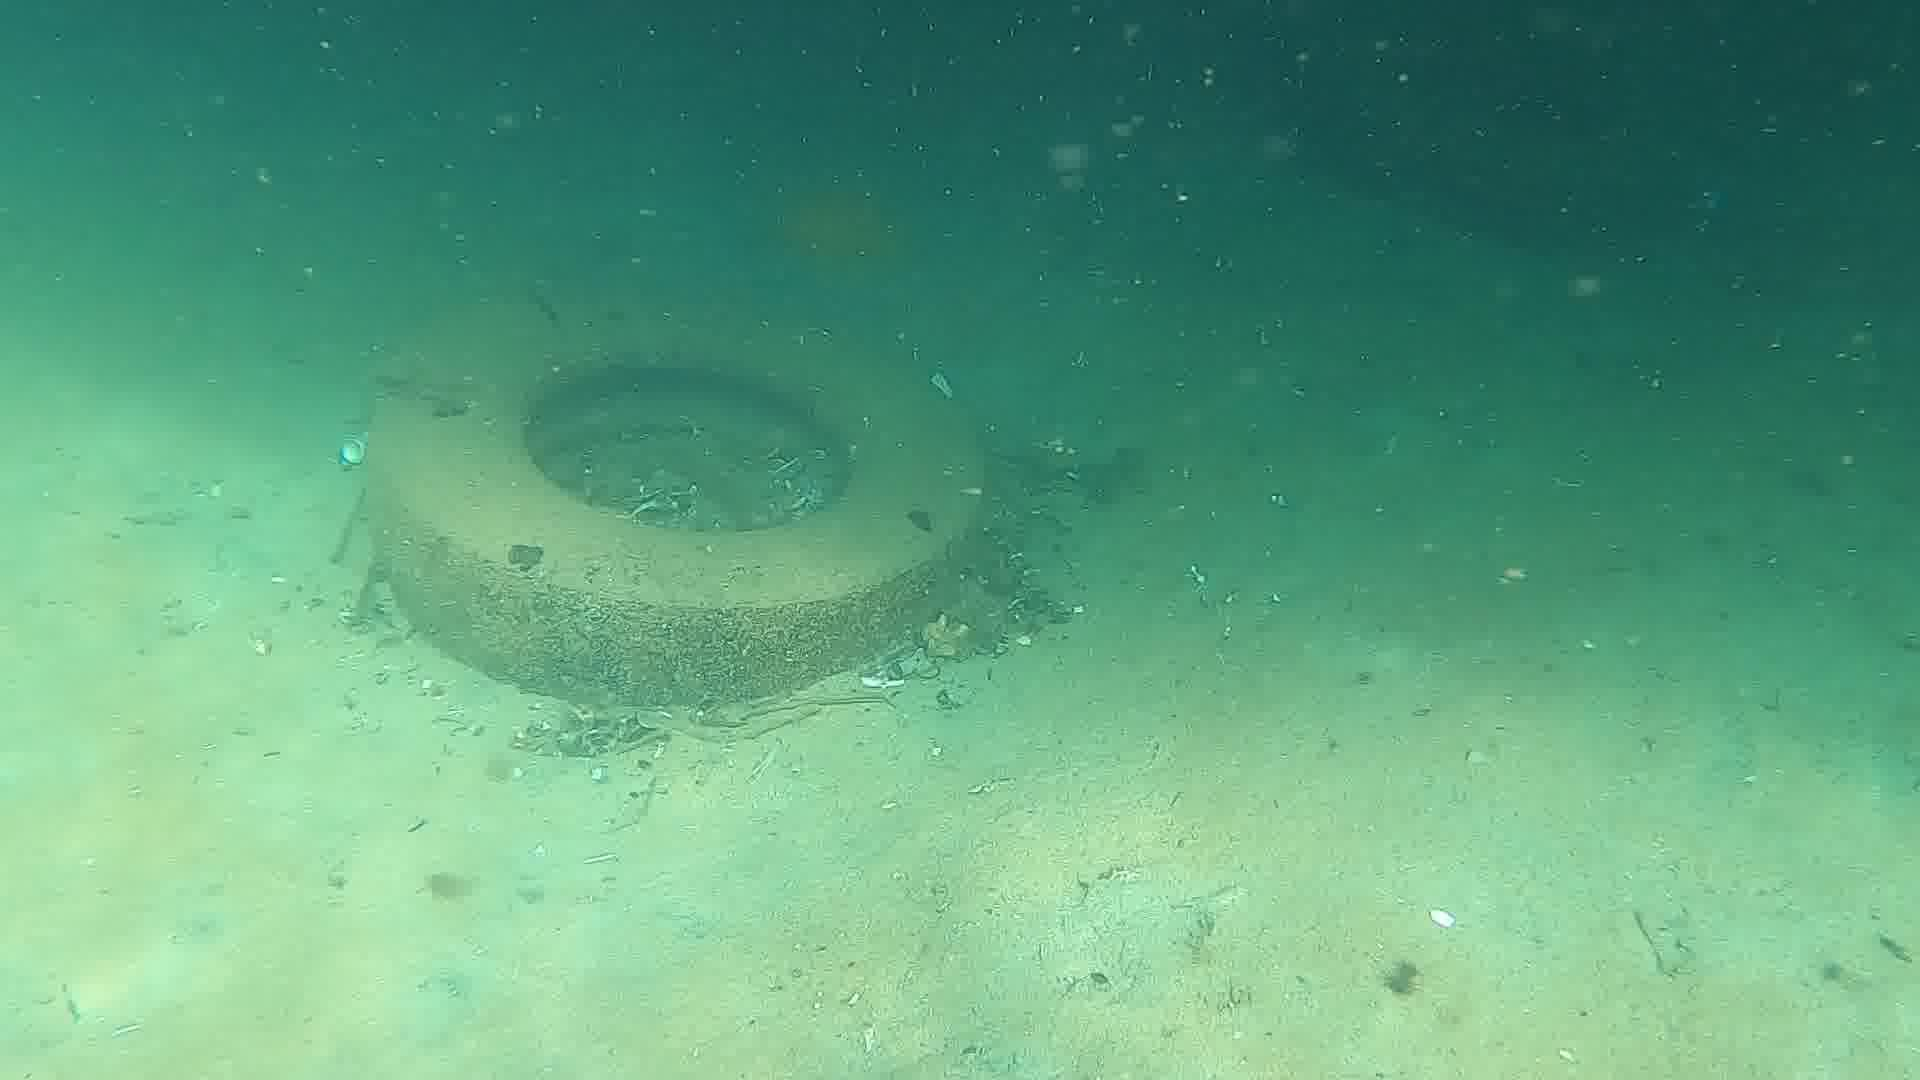tire: (367, 305, 990, 711)
